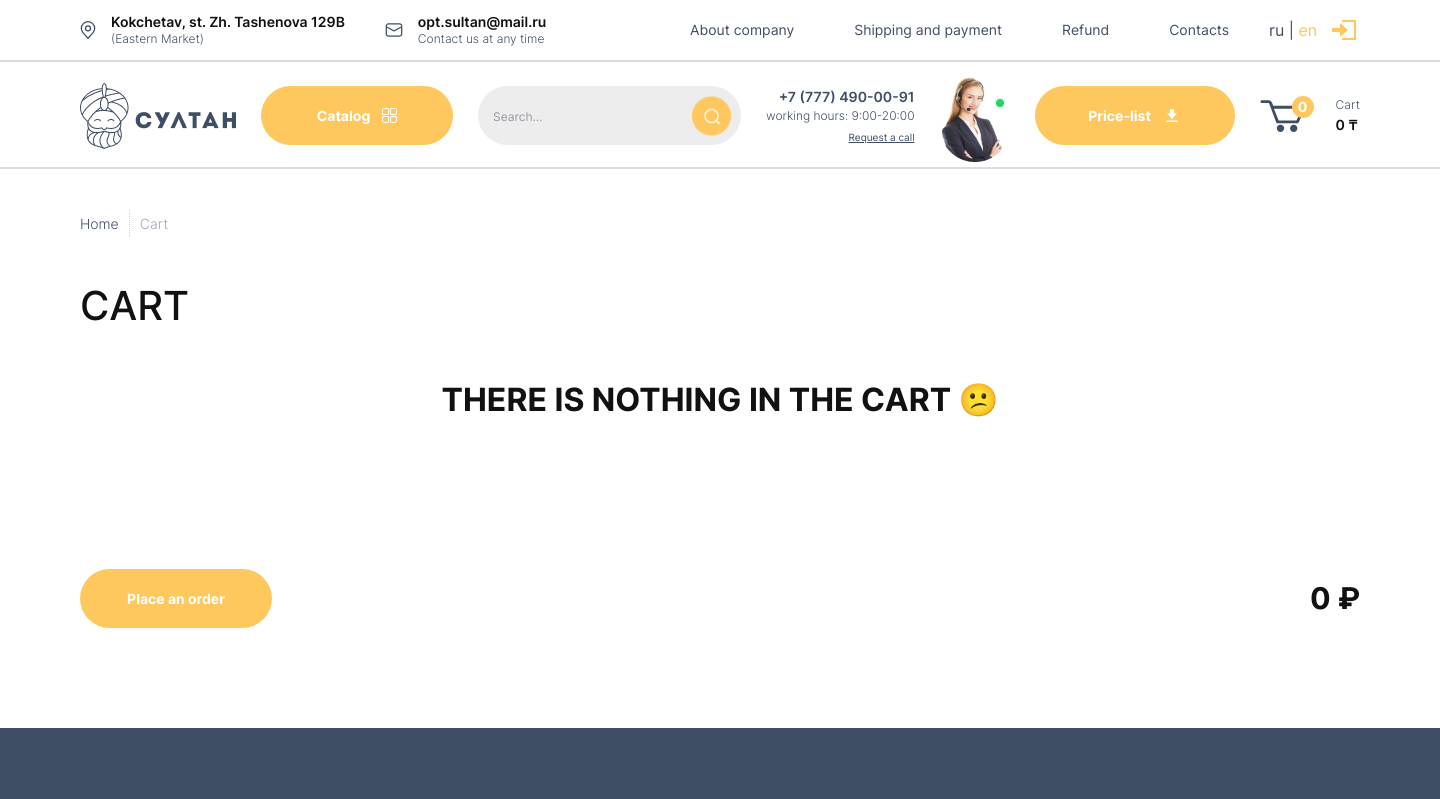
Test: Languages test › Test for changing languages on a cart page
Expected: the heading "Cart" is shown, [80,281,189,330]
Expected: the list item "Cart" is shown, [140,215,168,232]
Click the button with test id "russian" at (1277,30), box [1269,20,1284,40]
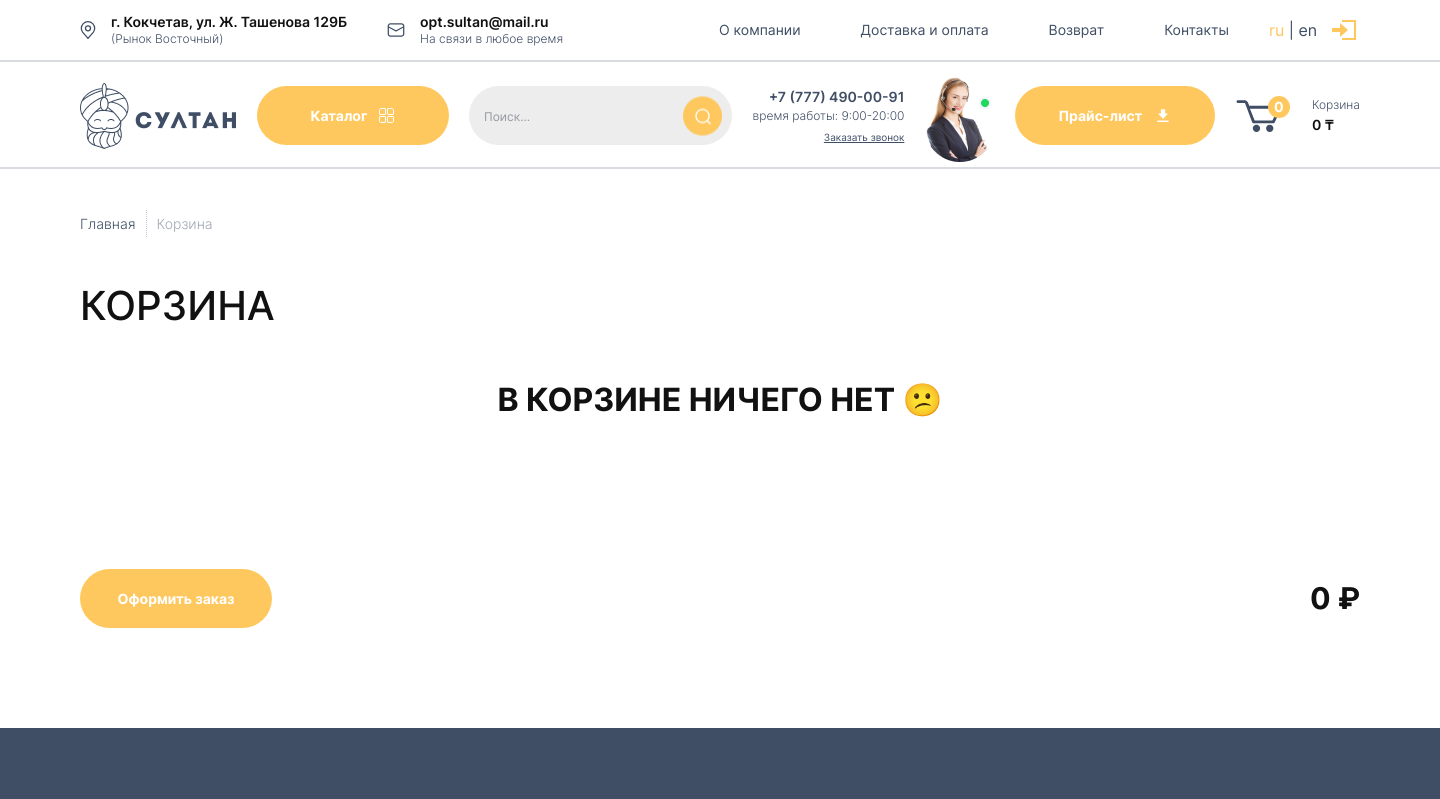
Result: the heading "Корзина" is shown at [80,281,275,330]
Result: the list item "Корзина" is shown at [157,215,213,232]
Result: the text "Оформить заказ" is shown at [118,590,234,607]
